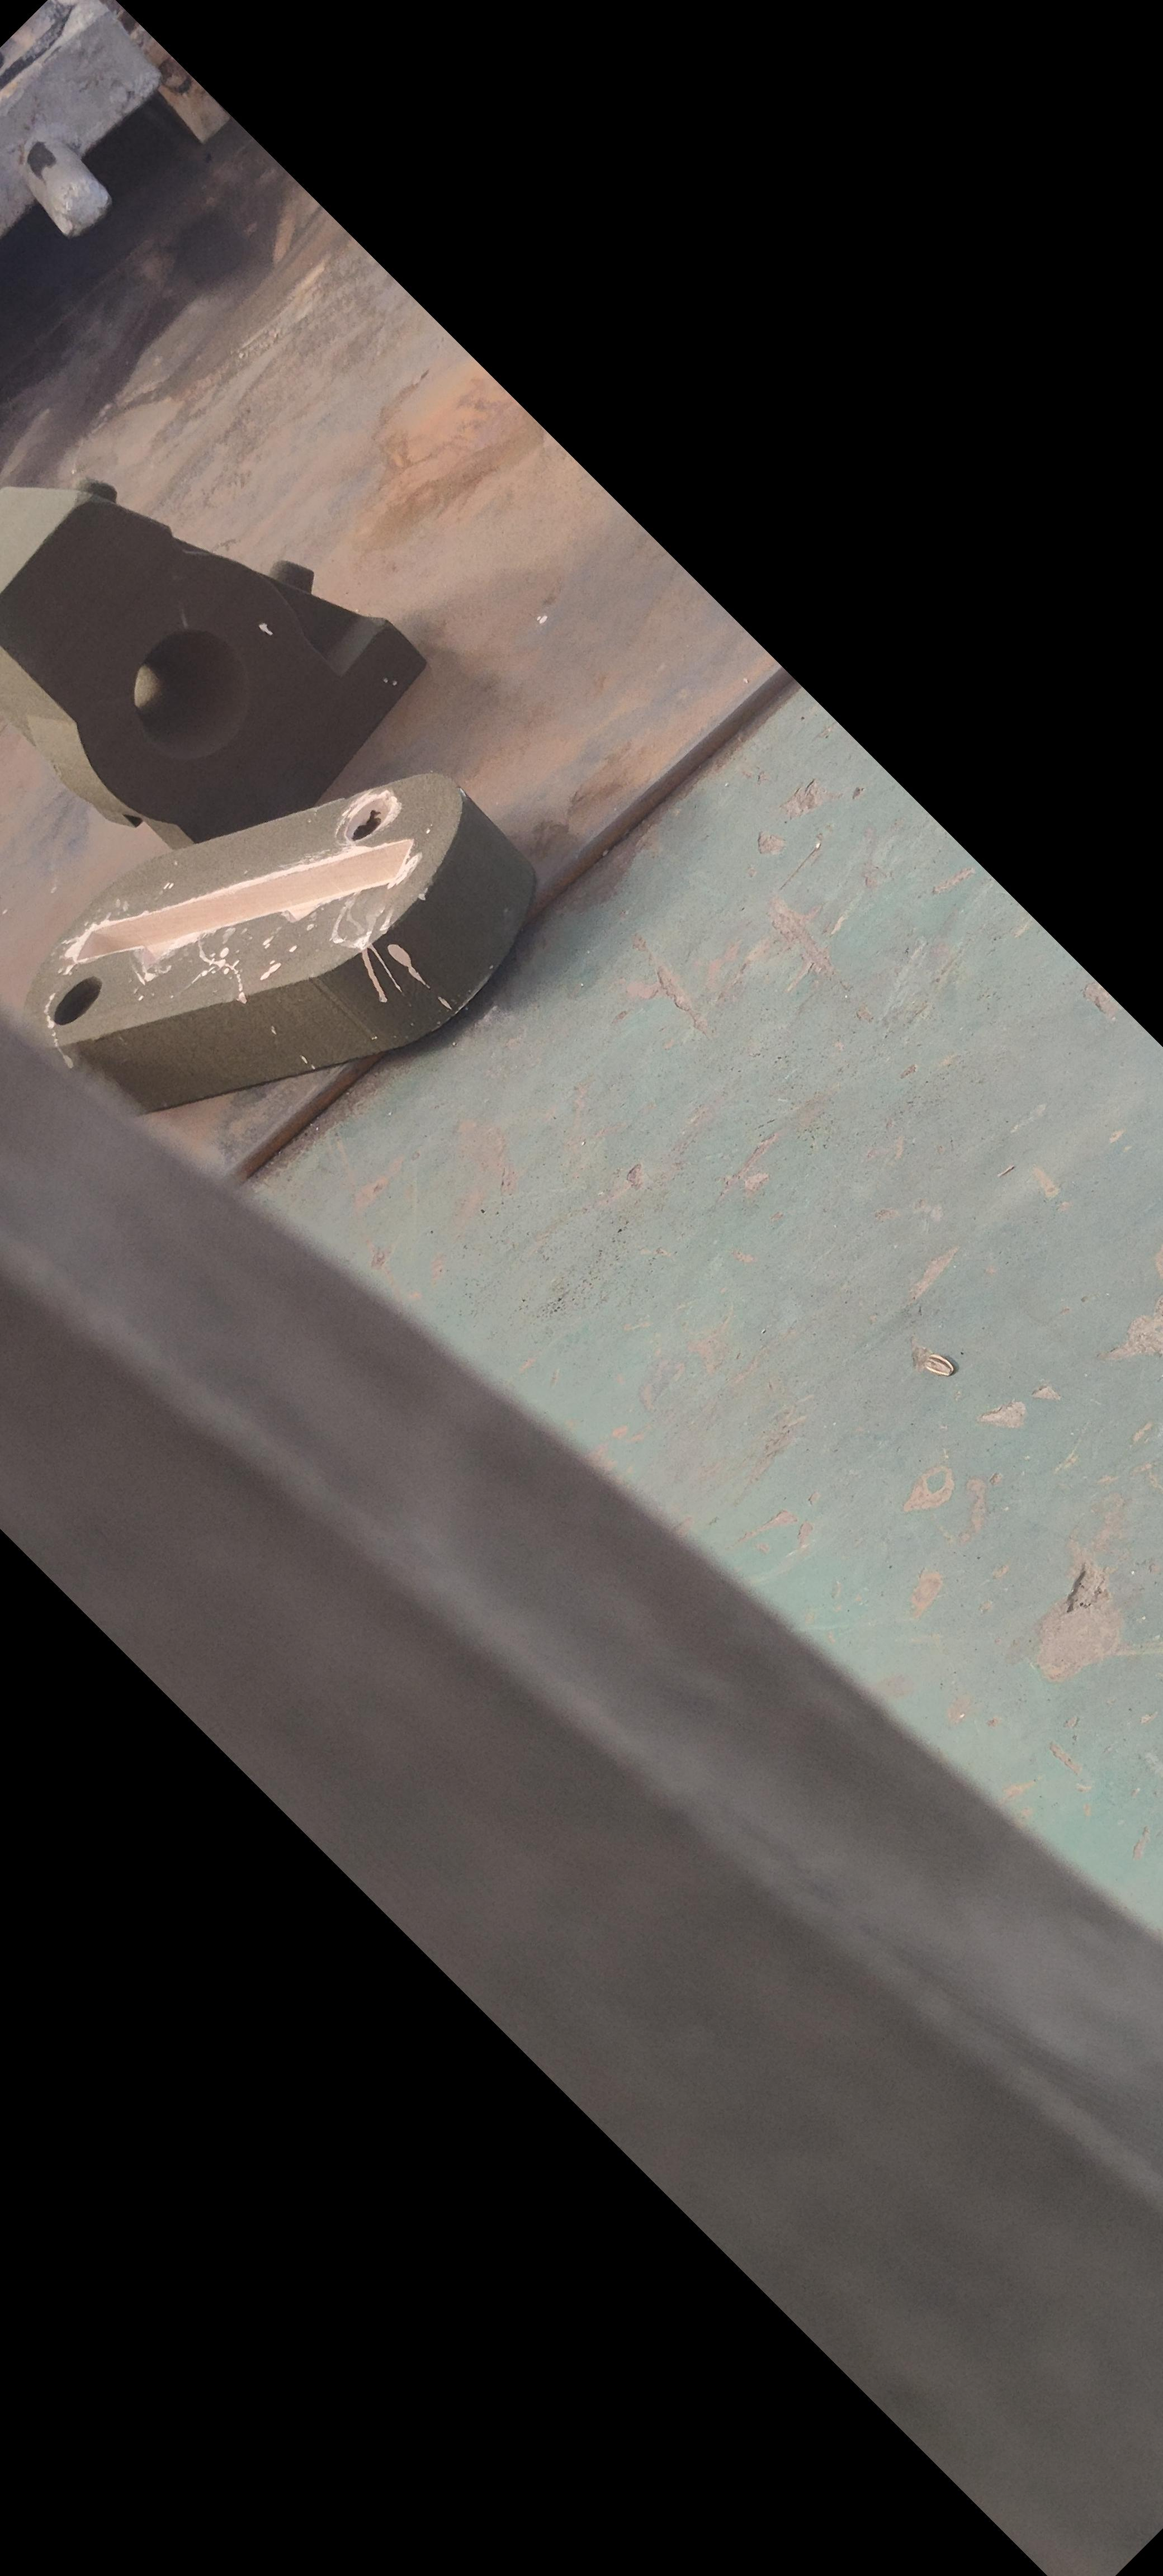pouring hole: (131, 629, 251, 759)
